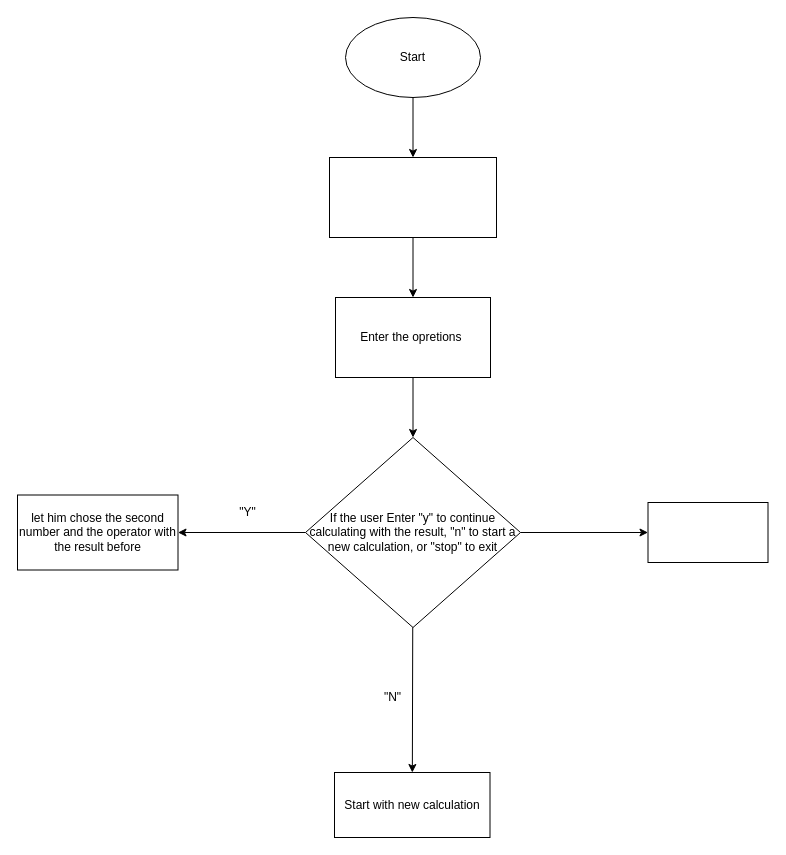
Some shapes in this 786 by 855 pixel diagram are drawn without their labels. Here are the shapes that lost their labels. From the top down, the box of each, then its label:
(328, 156, 496, 238): Enter the firrst number and the second one
(647, 502, 768, 562): Stop the procces and get out form the project
